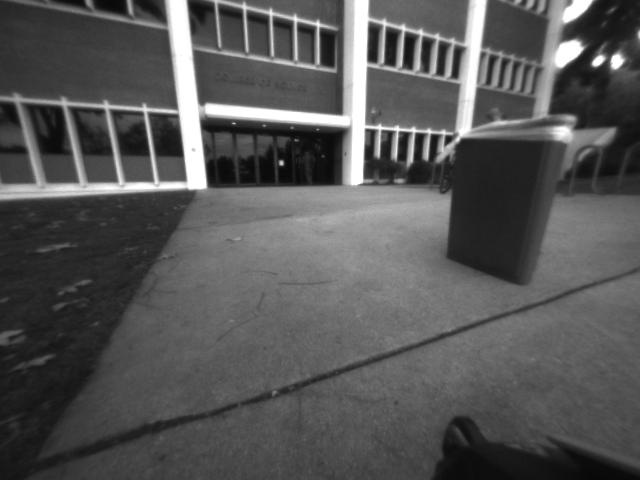trashcan_open: (433, 107, 587, 297)
